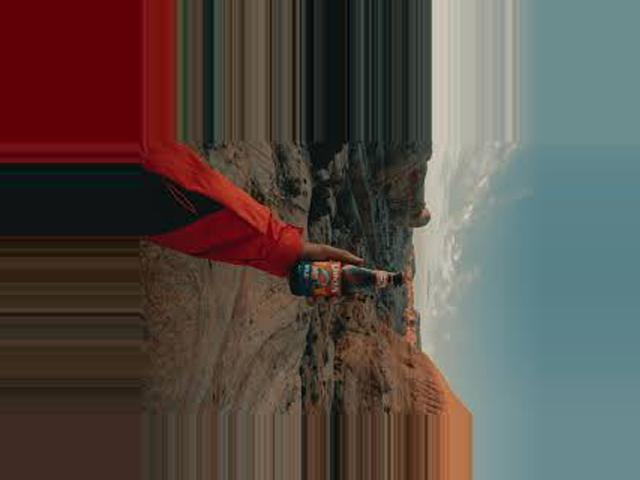beer: (290, 257, 402, 298)
